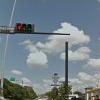traffic lights: (15, 22, 35, 34)
